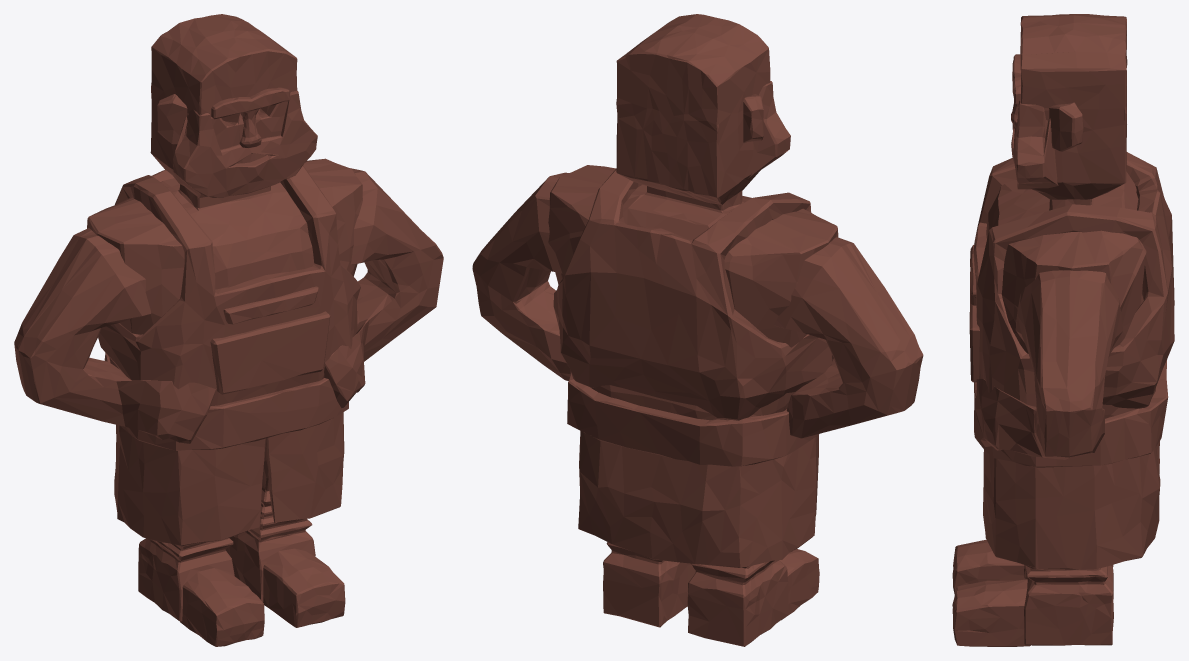
The model's file is SmithJohn.fbx.
3 renders of one model, left to right at view 1: azimuth 30°, elevation 25°; view 2: azimuth 150°, elevation 25°; view 3: azimuth 270°, elevation 25°, orthographic. The views are drawn at different scales.
Parts seen in each view (by area): view 1: SmithJohn, blackSmithTop; view 2: SmithJohn, blackSmithTop; view 3: SmithJohn, blackSmithTop.
Part boxes in pixels (bbox=[...]): SmithJohn: bbox=[14, 14, 443, 646]; blackSmithTop: bbox=[98, 165, 360, 405]; SmithJohn: bbox=[472, 14, 923, 646]; blackSmithTop: bbox=[553, 168, 832, 420]; SmithJohn: bbox=[952, 14, 1168, 646]; blackSmithTop: bbox=[969, 152, 1174, 408].
Bounding box in the file's own units: 753 × 971 × 331.
